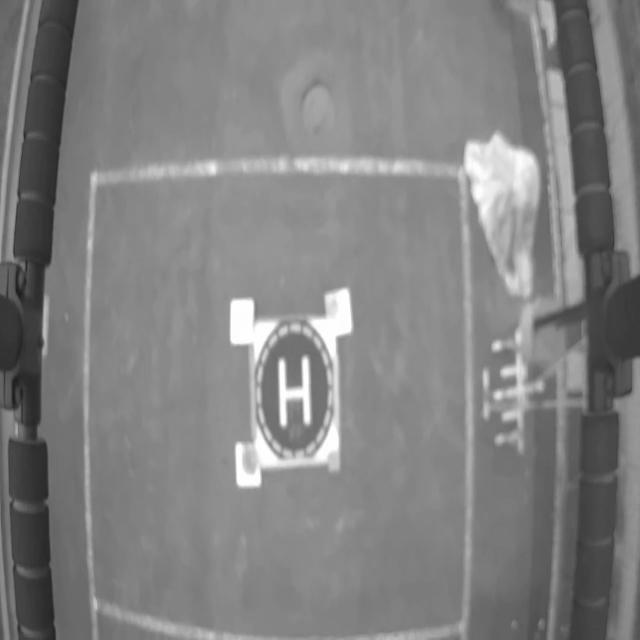Helipad: (278, 356, 312, 428)
